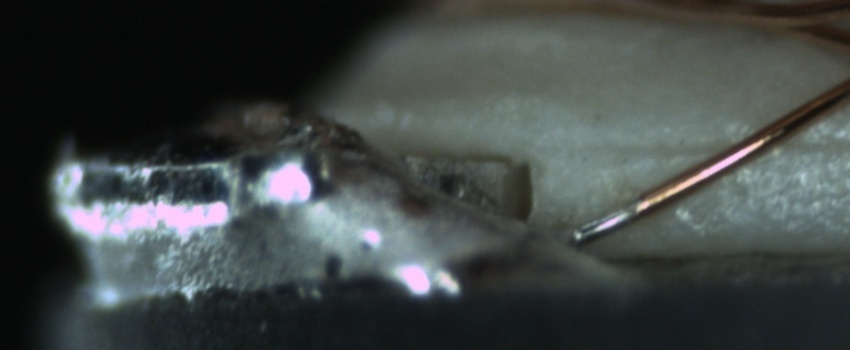DL: (593, 111, 849, 184)
TS: (568, 199, 641, 246)
